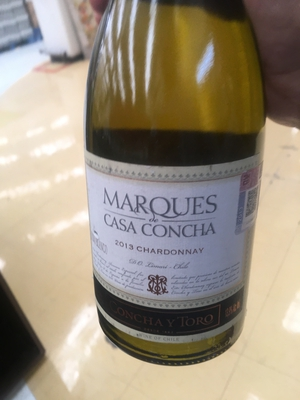marques de casa concha chardonnay: (76, 3, 269, 368)
